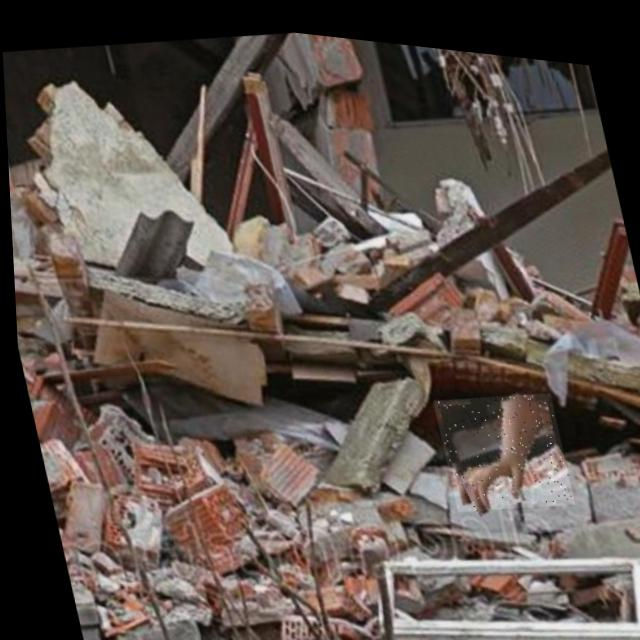Person in Rubble: (428, 370, 570, 512)
